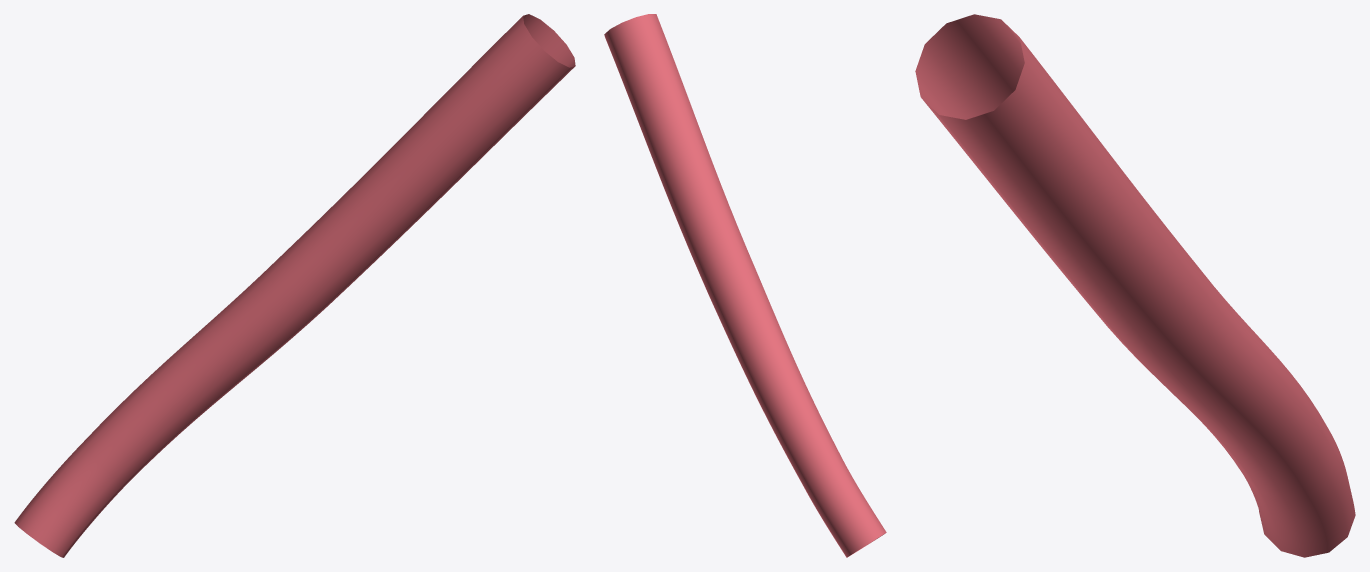
3 views of the same model, side by side, from view 1: azimuth 30°, elevation 25°; view 2: azimuth 150°, elevation 25°; view 3: azimuth 270°, elevation 25° (orthographic). The views are drawn at different scales.
Visible parts, largest first — view 1: ZA_061114a0b1391d71; view 2: ZA_061114a0b1391d71; view 3: ZA_061114a0b1391d71.
Boxes of the visible parts, x1=… form: ZA_061114a0b1391d71: x1=14, y1=14, x2=575, y2=557; ZA_061114a0b1391d71: x1=604, y1=14, x2=886, y2=557; ZA_061114a0b1391d71: x1=915, y1=14, x2=1355, y2=557.
Size of the model in its own units: 0.0255 by 0.0282 by 0.0137.
